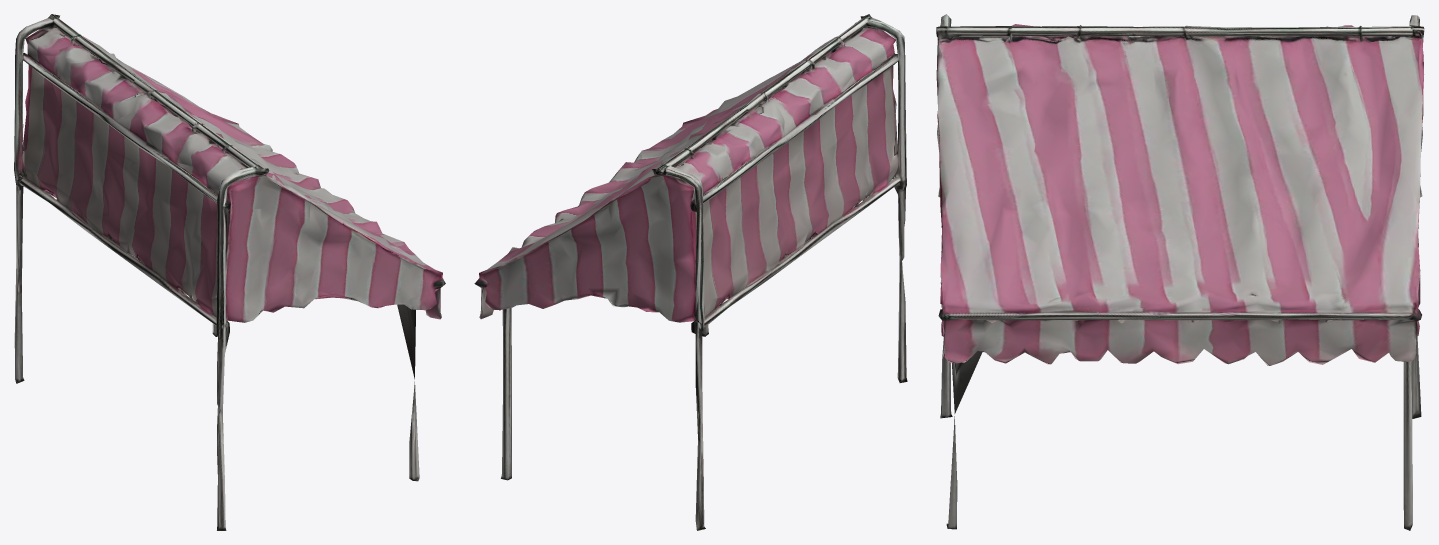
The model's file is awning_striped.glb.
3 renders of one model, left to right at view 1: azimuth 30°, elevation 25°; view 2: azimuth 150°, elevation 25°; view 3: azimuth 270°, elevation 25°, orthographic. The views are drawn at different scales.
Parts seen in each view (by area): view 1: tripo_node_8d04b2a5-6b69-4fa6-9aa6-3e5afda8aa0d; view 2: tripo_node_8d04b2a5-6b69-4fa6-9aa6-3e5afda8aa0d; view 3: tripo_node_8d04b2a5-6b69-4fa6-9aa6-3e5afda8aa0d.
Boxes of the visible parts, x1,y1,x2,y2 form: tripo_node_8d04b2a5-6b69-4fa6-9aa6-3e5afda8aa0d: [14, 14, 445, 530]; tripo_node_8d04b2a5-6b69-4fa6-9aa6-3e5afda8aa0d: [474, 14, 907, 530]; tripo_node_8d04b2a5-6b69-4fa6-9aa6-3e5afda8aa0d: [936, 14, 1424, 530].
Size of the model in its own units: 0.6241 by 0.9305 by 1.
1 material, 1 textured.
